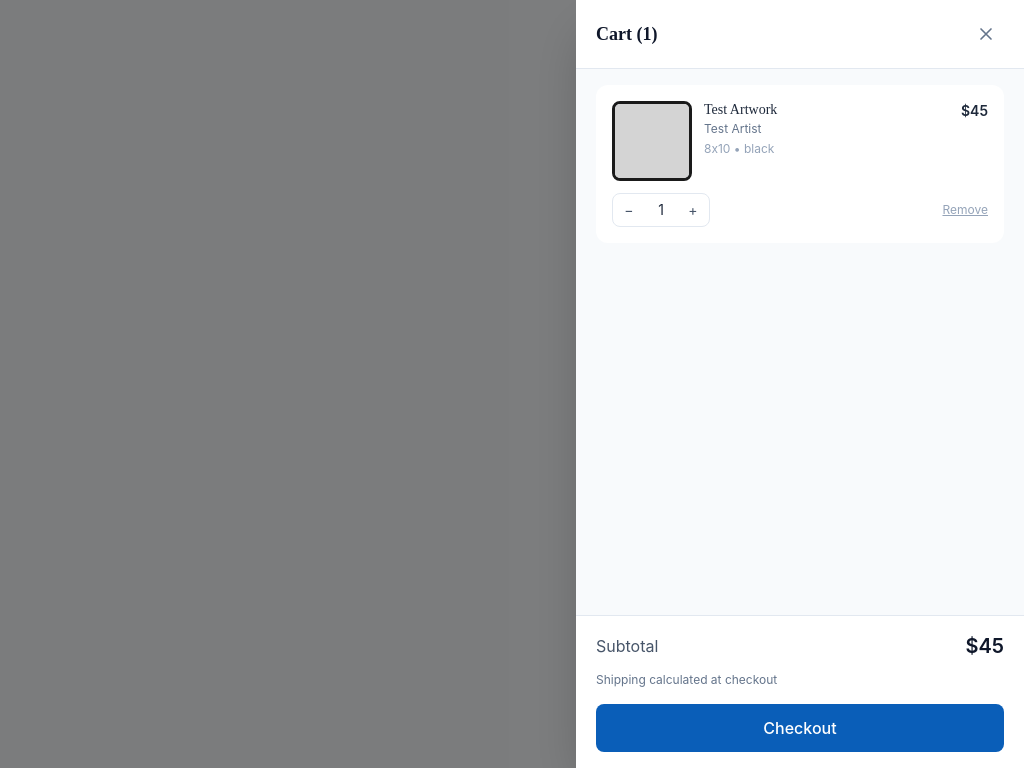
Test: Cart › quantity controls › should increment quantity on + click
Click the button "+".
click(693, 210)  # box x1=677 y1=194 x2=709 y2=226
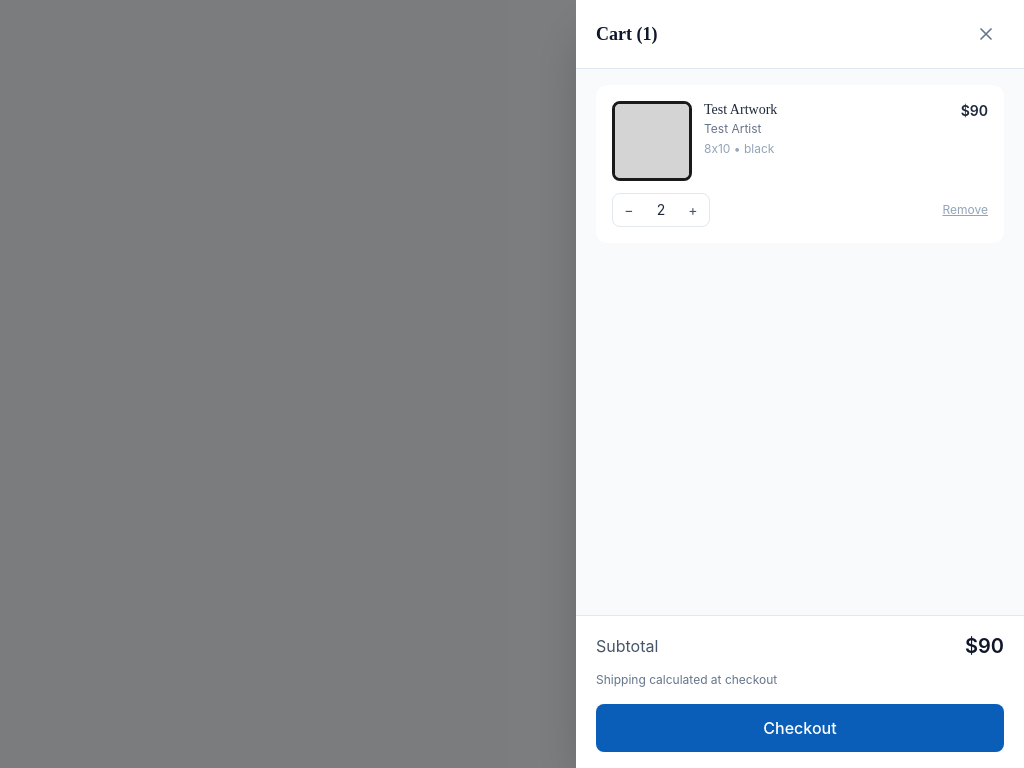
Expected: the text "2" is shown, x1=657 y1=201 x2=665 y2=218
